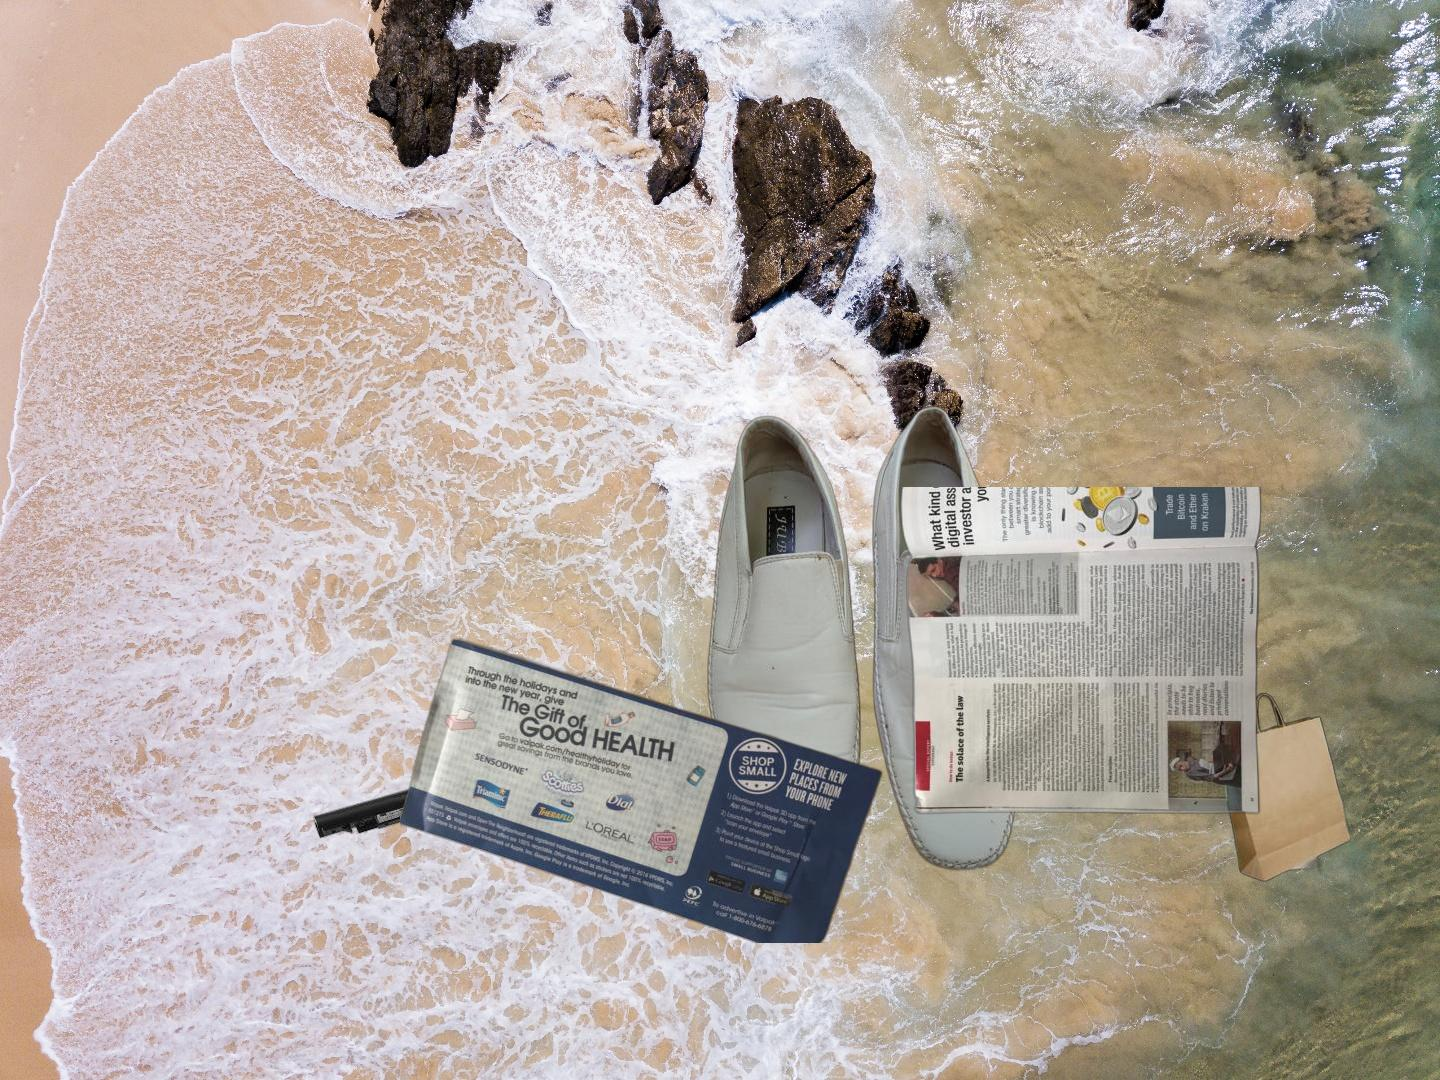battery: (312, 753, 537, 841)
paper: (400, 638, 887, 943), (897, 487, 1267, 817)
paper-bag: (1125, 690, 1377, 885)
shoes: (639, 368, 1024, 879)
